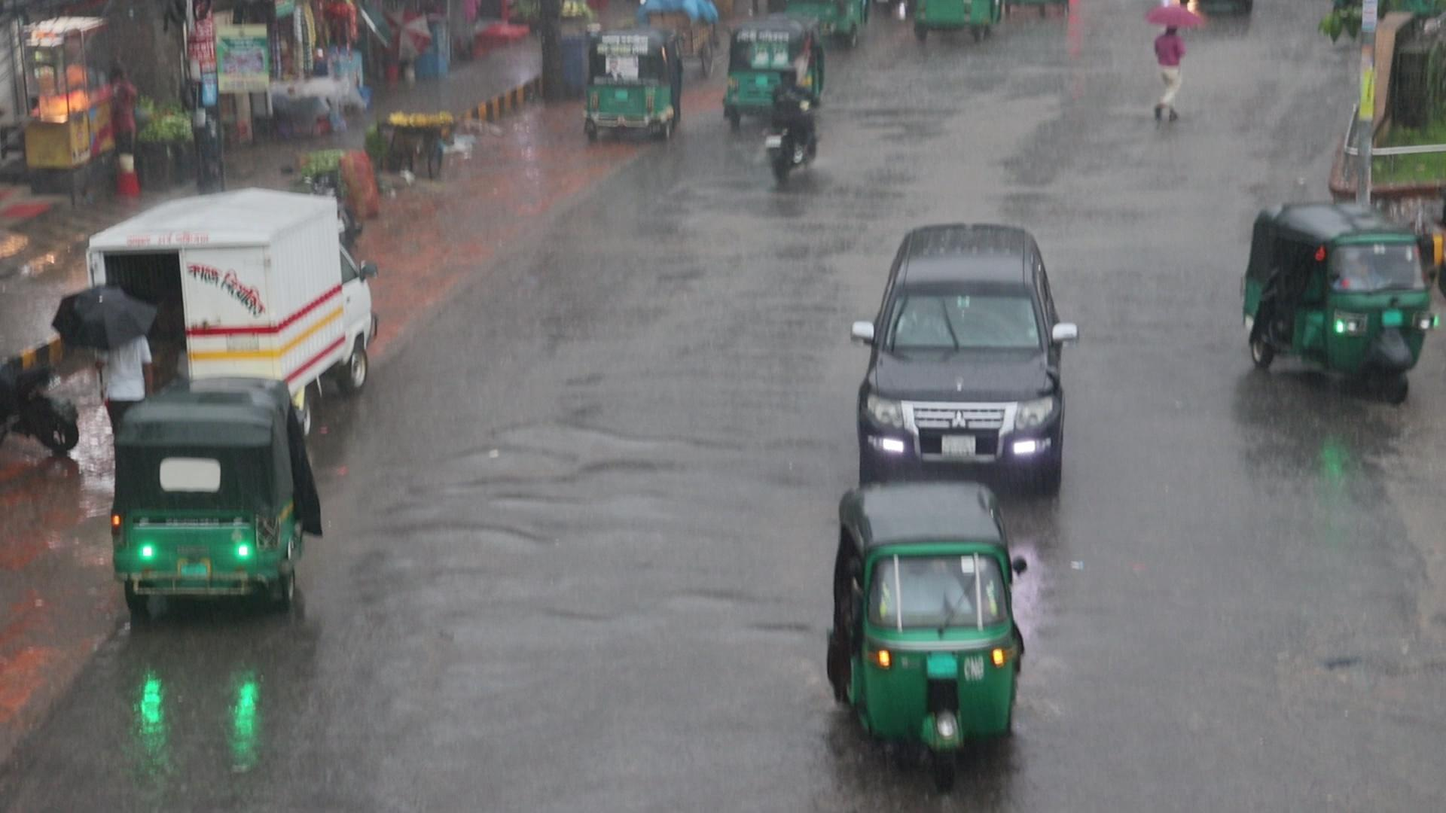Bike: (755, 63, 825, 188)
Car: (846, 220, 1082, 472)
